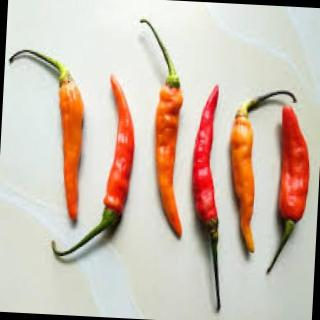Cabai Merah: (149, 75, 192, 244), (187, 85, 229, 242), (273, 98, 316, 244), (225, 100, 262, 259), (53, 67, 89, 226), (103, 79, 135, 225)
